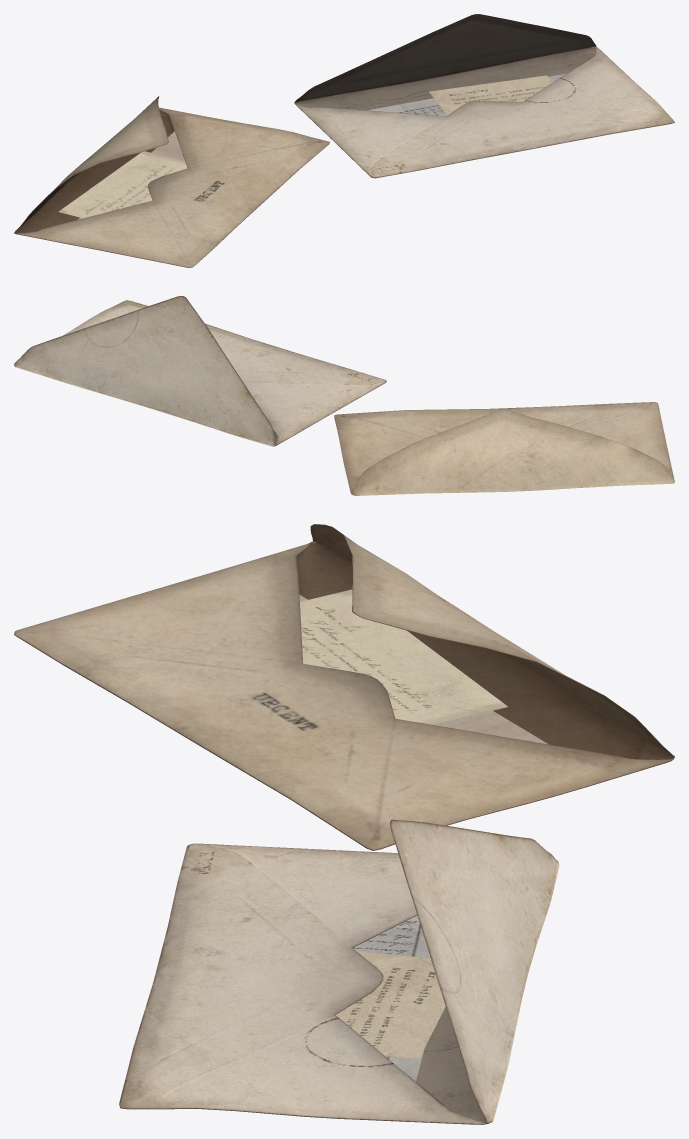
File: Opened Letters.fbx
The picture shows the model from 3 angles, top to bottom: view 1: azimuth 30°, elevation 25°; view 2: azimuth 150°, elevation 25°; view 3: azimuth 270°, elevation 25°; orthographic projection. The views are drawn at different scales.
Visible parts, largest first — view 1: Opened Envelope A, Opened Envelope B; view 2: Opened Envelope A, Opened Envelope B; view 3: Opened Envelope B, Opened Envelope A.
Part boxes in pixels (x1=…): Opened Envelope A: x1=294, y1=14, x2=674, y2=178; Opened Envelope B: x1=14, y1=96, x2=329, y2=267; Opened Envelope A: x1=14, y1=296, x2=386, y2=446; Opened Envelope B: x1=334, y1=402, x2=674, y2=495; Opened Envelope B: x1=14, y1=524, x2=674, y2=850; Opened Envelope A: x1=119, y1=819, x2=559, y2=1124.
Size of the model in its own units: 105 by 14.56 by 50.48.
Materials: 1 (1 with a texture image).
